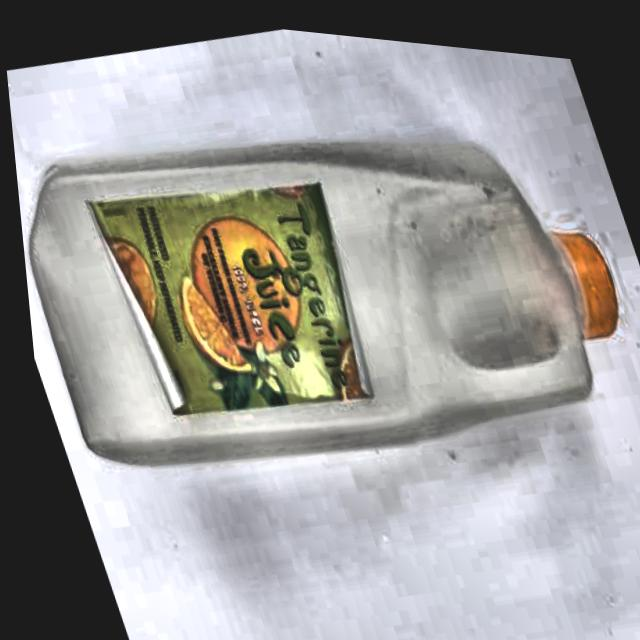Plastic: (1, 9, 640, 575)
